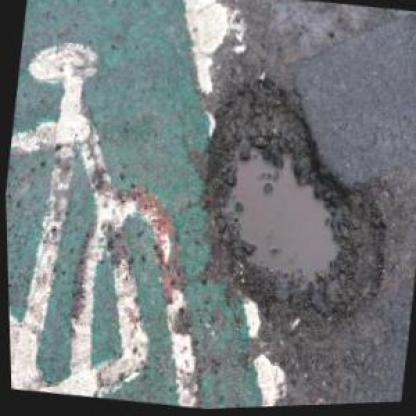pothole: (176, 66, 409, 346)
